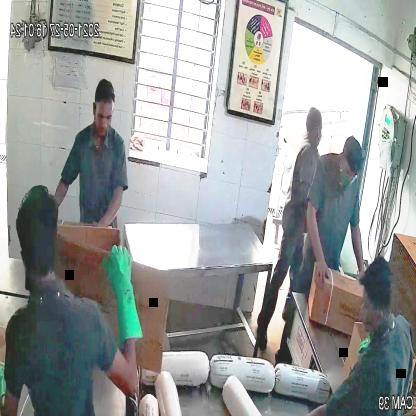no_goggles: (90, 104, 116, 125)
